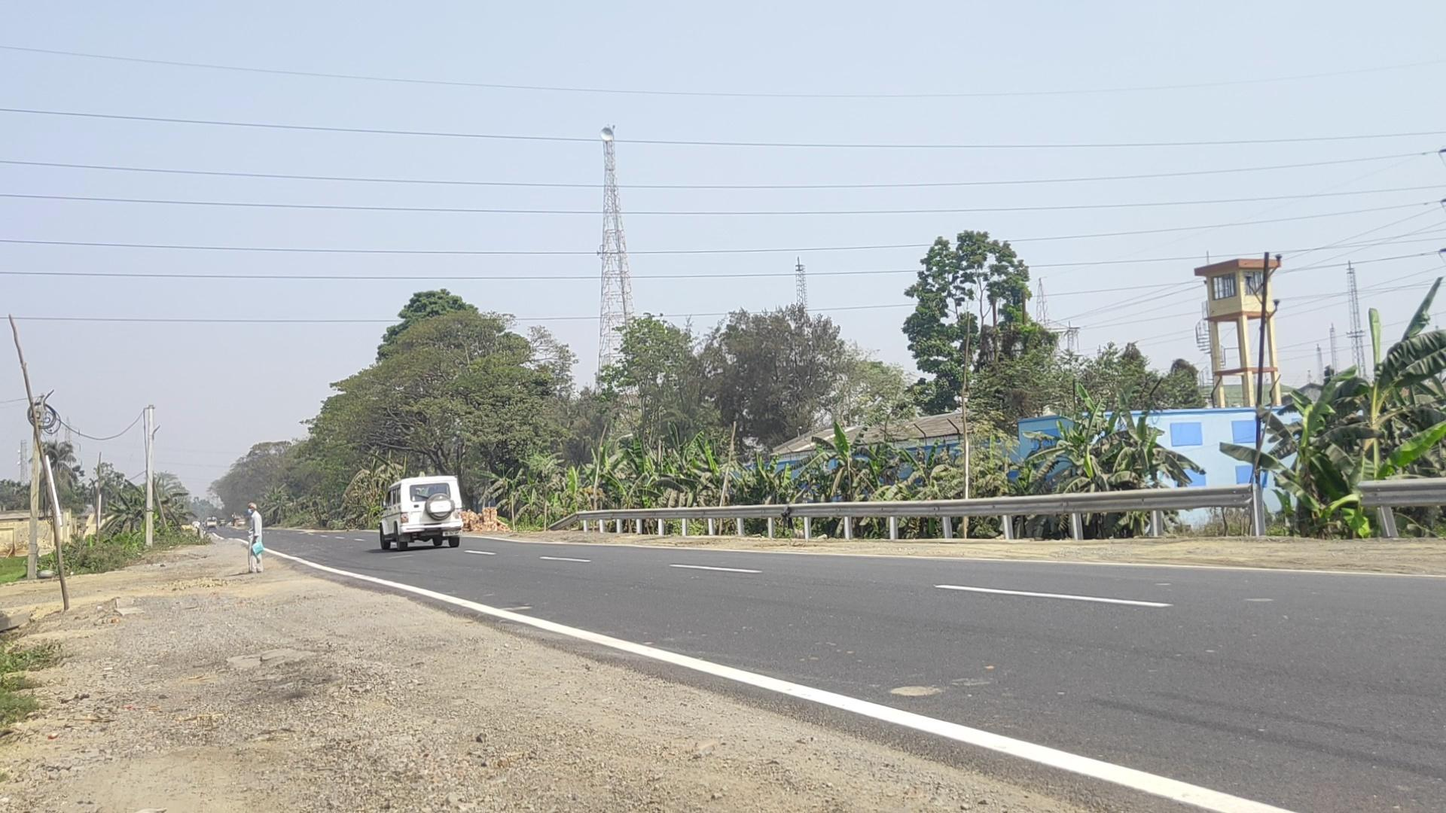car: (378, 475, 464, 552)
van: (246, 501, 263, 574)
